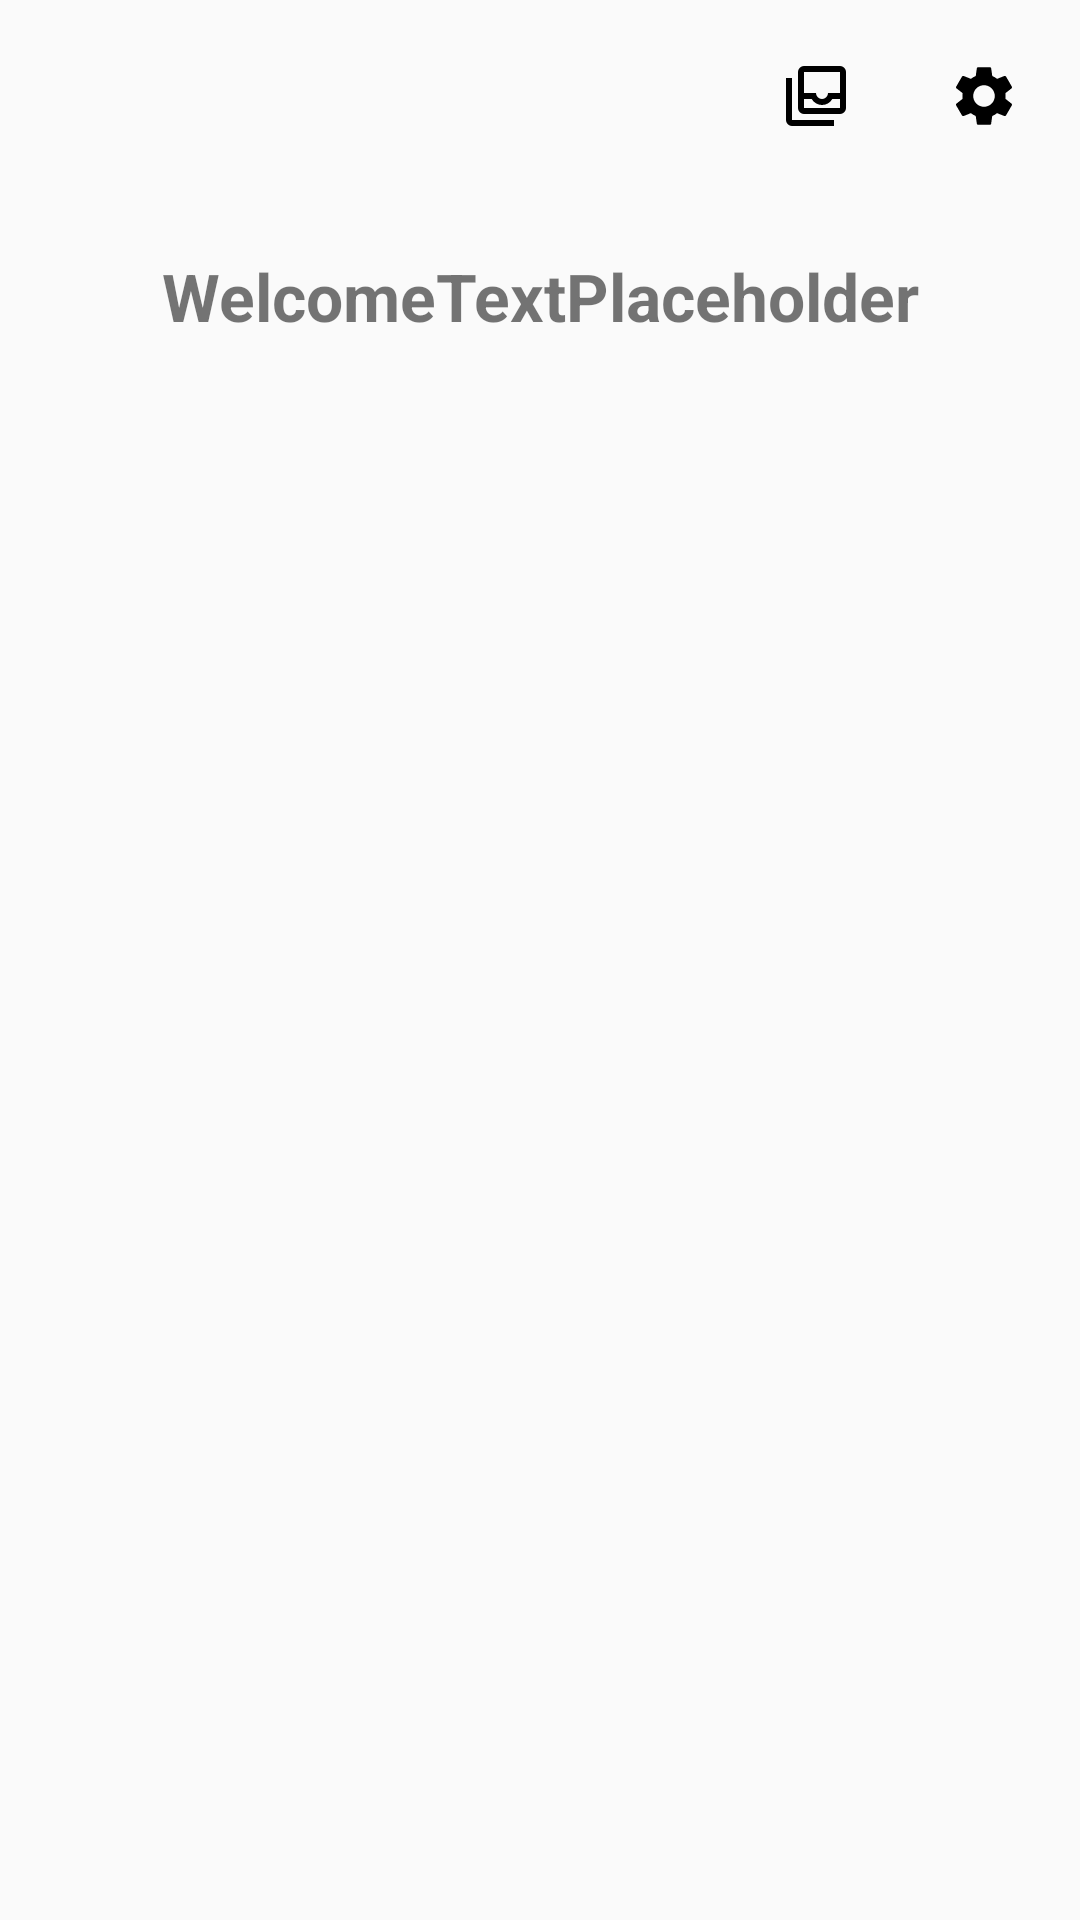

Where to tap for icons on this 1080px x 1920px app screen, as (x=x, y=y):
Inbox: (x=816, y=96)
Settings: (x=984, y=96)
